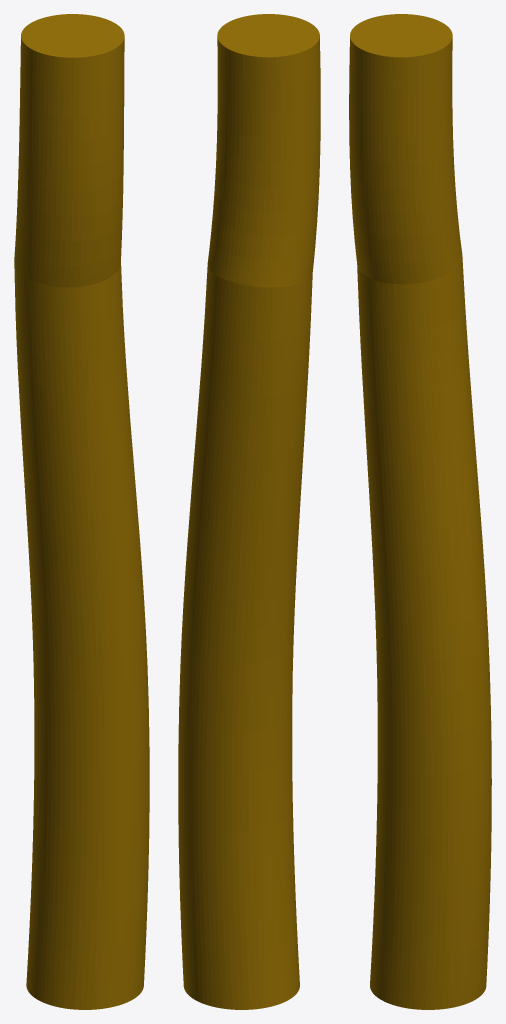
File: 11_decorative.glb
The picture shows the model from 3 angles, left to right: view 1: azimuth 30°, elevation 25°; view 2: azimuth 150°, elevation 25°; view 3: azimuth 330°, elevation 25°; orthographic projection.
Parts seen in each view (by area): view 1: skp7A3C; view 2: skp7A3C; view 3: skp7A3C.
Boxes of the visible parts, bbox=[...] form: skp7A3C: bbox=[14, 14, 149, 1009]; skp7A3C: bbox=[178, 14, 320, 1009]; skp7A3C: bbox=[349, 14, 491, 1009].
Size of the model in its own units: 0.4886 by 3.66 by 0.4335.
